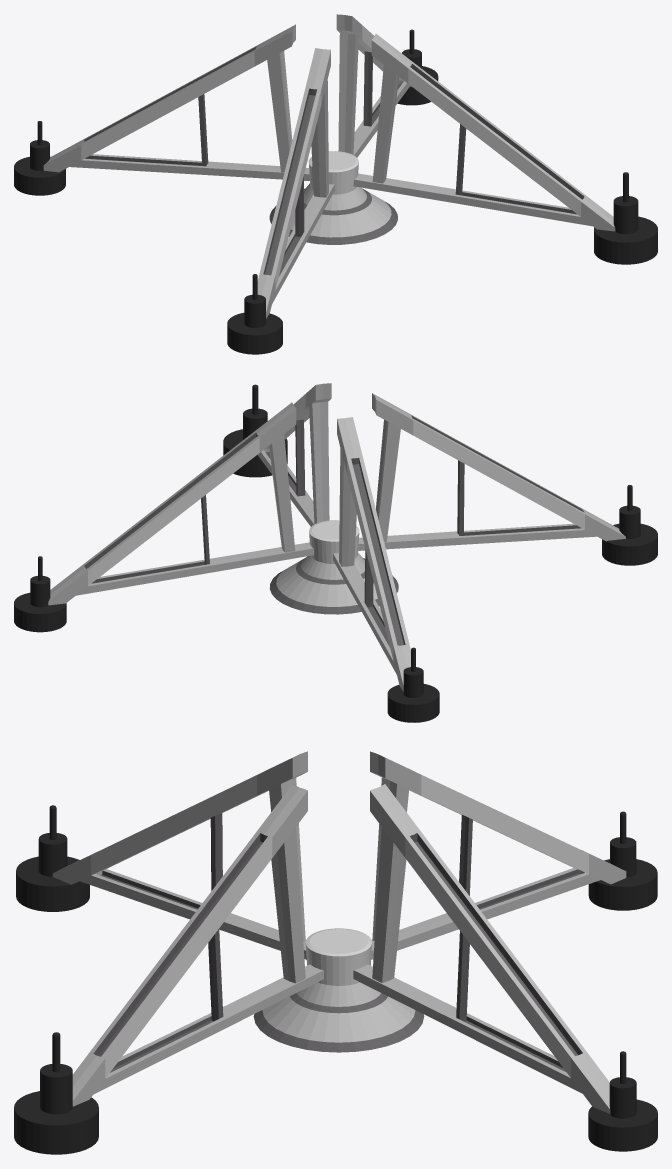
File: Radar_Jammer_Large_Constr1.fbx
3 renders of one model, top to bottom at view 1: azimuth 30°, elevation 25°; view 2: azimuth 150°, elevation 25°; view 3: azimuth 270°, elevation 25°, orthographic. The views are drawn at different scales.
Visible parts, largest first — view 1: Cylinder.225, Cylinder.223, Cylinder.222, Cylinder.221, Cylinder.224; view 2: Cylinder.225, Cylinder.222, Cylinder.221, Cylinder.224, Cylinder.223; view 3: Cylinder.225, Cylinder.223, Cylinder.222, Cylinder.224, Cylinder.221.
Boxes of the visible parts, box(x1,y1,x2,y2) form: Cylinder.225: box(43, 14, 615, 318); Cylinder.223: box(594, 172, 657, 264); Cylinder.222: box(227, 274, 282, 354); Cylinder.221: box(14, 121, 65, 195); Cylinder.224: box(397, 29, 438, 105); Cylinder.225: box(48, 383, 625, 691); Cylinder.222: box(602, 485, 657, 565); Cylinder.221: box(387, 647, 439, 722); Cylinder.224: box(14, 556, 66, 632); Cylinder.223: box(223, 384, 287, 477); Cylinder.225: box(52, 751, 626, 1113); Cylinder.223: box(14, 1032, 98, 1154); Cylinder.222: box(16, 805, 89, 911); Cylinder.224: box(588, 1051, 657, 1151); Cylinder.221: box(588, 811, 657, 910).
Bounding box in the file's own units: 8.89 × 3.73 × 8.84.
